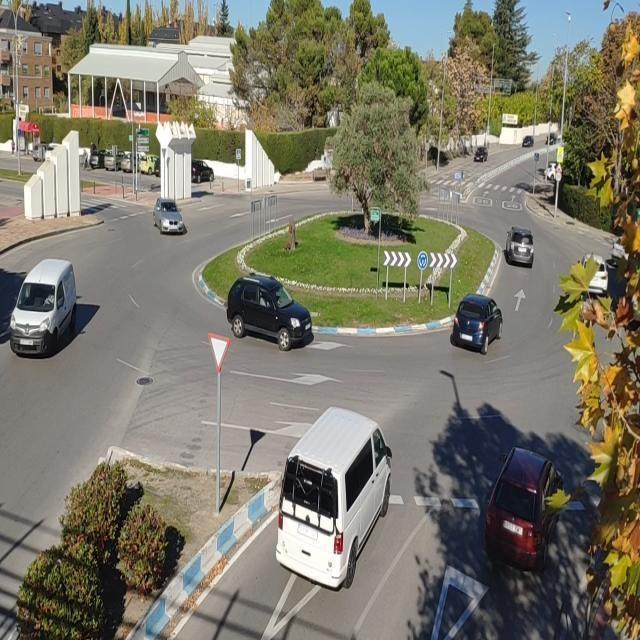Car: (474, 439, 574, 571), (214, 259, 316, 356), (438, 285, 524, 368), (491, 217, 547, 284), (147, 181, 199, 244), (567, 245, 621, 300), (466, 141, 504, 175), (185, 152, 216, 185), (542, 158, 566, 183), (543, 128, 564, 149), (522, 132, 536, 152)
Van: (255, 399, 399, 603), (0, 242, 96, 378)
